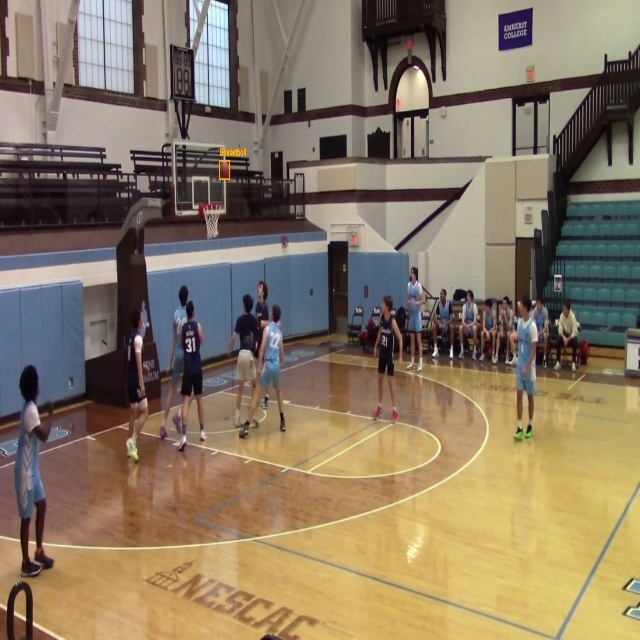Basketball: (220, 161, 230, 179)
